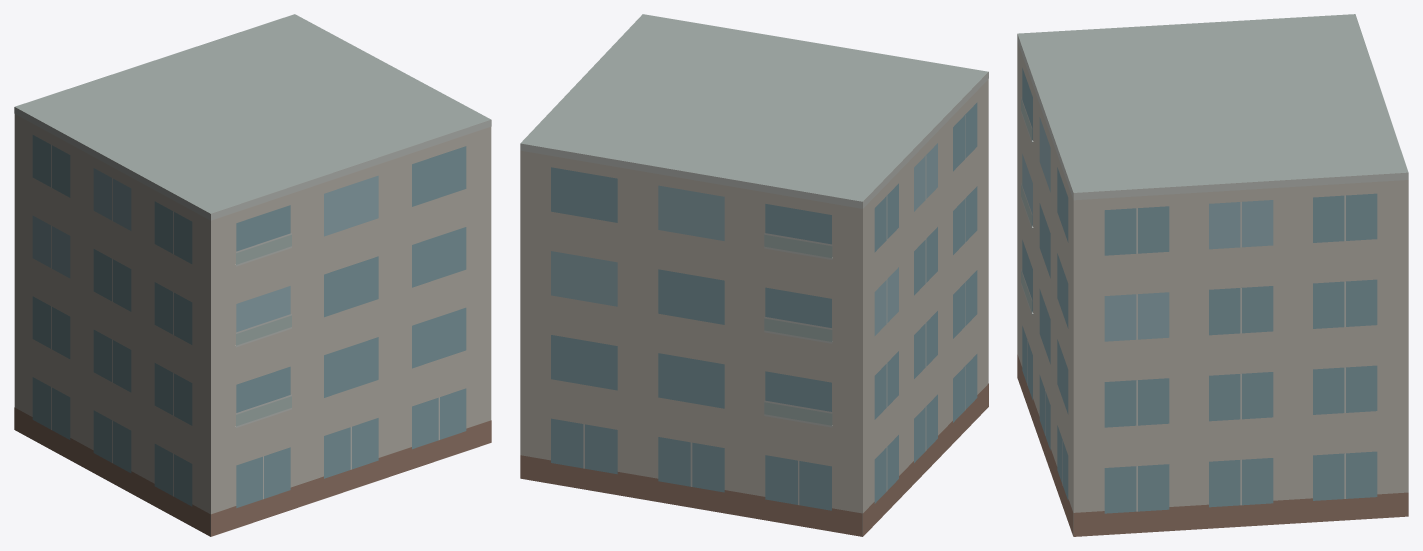
The model's file is survey-upis-33045092.glb.
3 renders of one model, left to right at view 1: azimuth 30°, elevation 25°; view 2: azimuth 150°, elevation 25°; view 3: azimuth 270°, elevation 25°, orthographic. The views are drawn at different scales.
Parts seen in each view (by area): view 1: survey-upis-33045092.tmp; view 2: survey-upis-33045092.tmp; view 3: survey-upis-33045092.tmp.
Boxes of the visible parts, bbox=[...] form: survey-upis-33045092.tmp: bbox=[14, 14, 491, 536]; survey-upis-33045092.tmp: bbox=[520, 14, 988, 536]; survey-upis-33045092.tmp: bbox=[1017, 14, 1408, 536].
Size of the model in its own units: 12.85 by 11.5 by 11.87.
